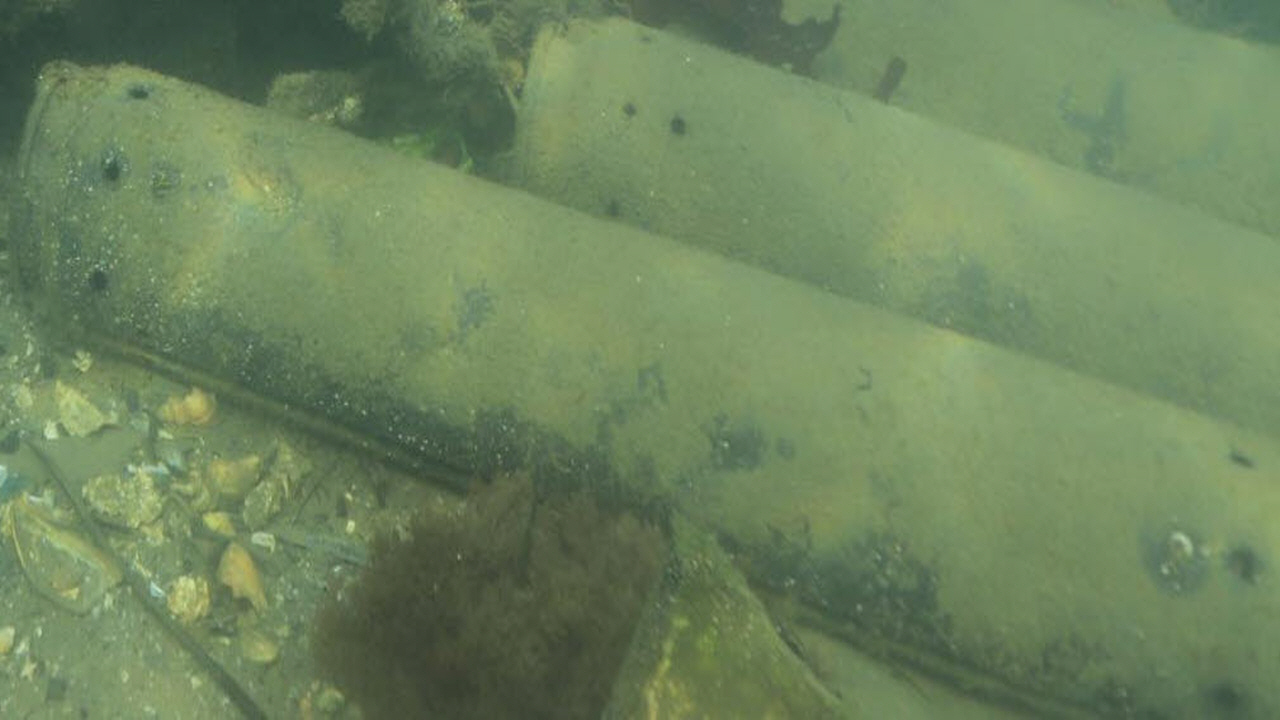eel fish trap: (10, 60, 1280, 720), (512, 14, 1280, 440)
